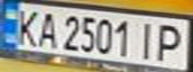0: (93, 16, 115, 56)
1: (112, 17, 136, 57)
2: (57, 11, 81, 52)
5: (78, 14, 96, 54)
A: (33, 8, 60, 48)
I: (133, 19, 160, 61)
K: (9, 6, 42, 47)
P: (151, 20, 190, 63)
